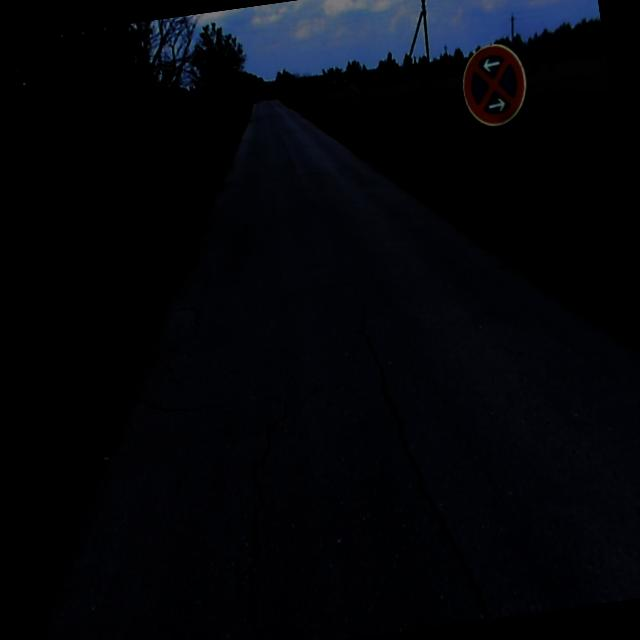road: (39, 100, 640, 640)
